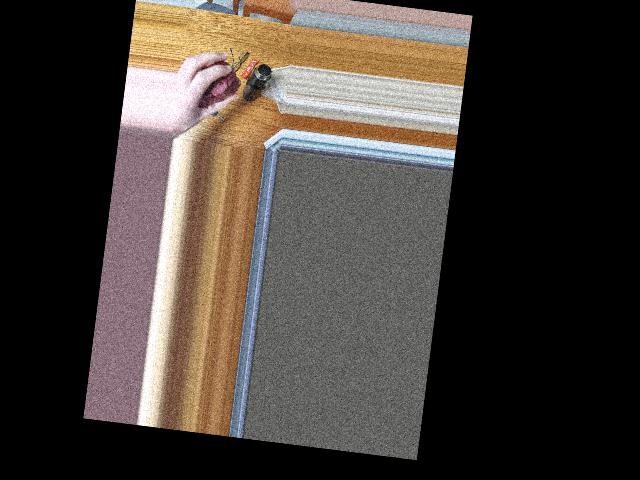onion: (196, 59, 239, 115)
